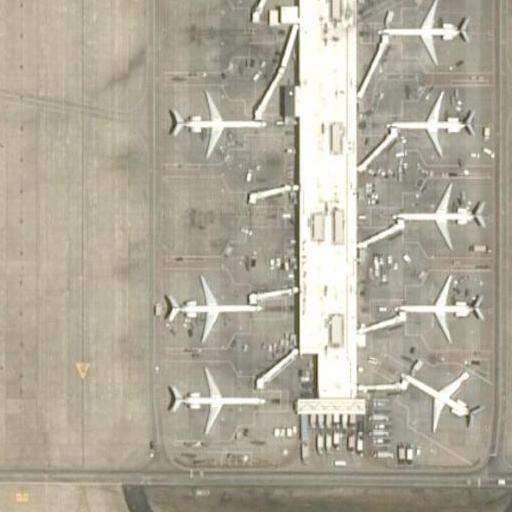Aircraft: (158, 276, 264, 343), (162, 90, 271, 155), (158, 371, 264, 437), (390, 185, 484, 252), (374, 0, 472, 64), (384, 93, 478, 158), (388, 281, 489, 340), (401, 366, 486, 429)
